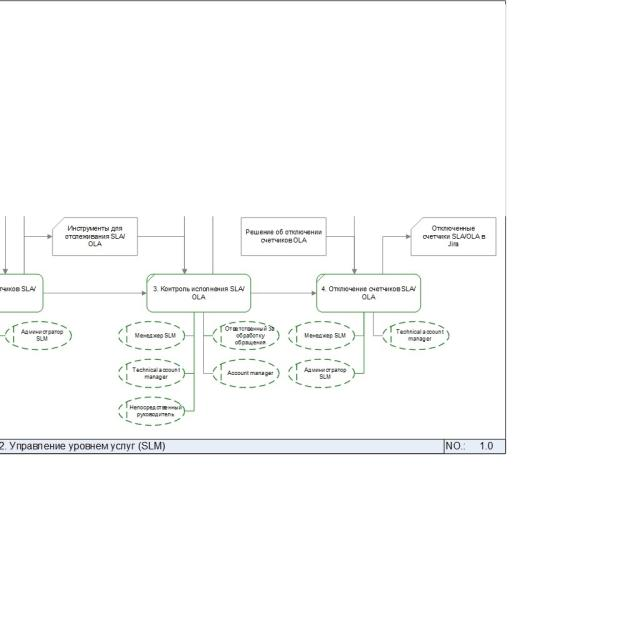arrow: (43, 289, 146, 297), (251, 289, 316, 297)
rectangle: (316, 273, 422, 313), (146, 273, 251, 313)
